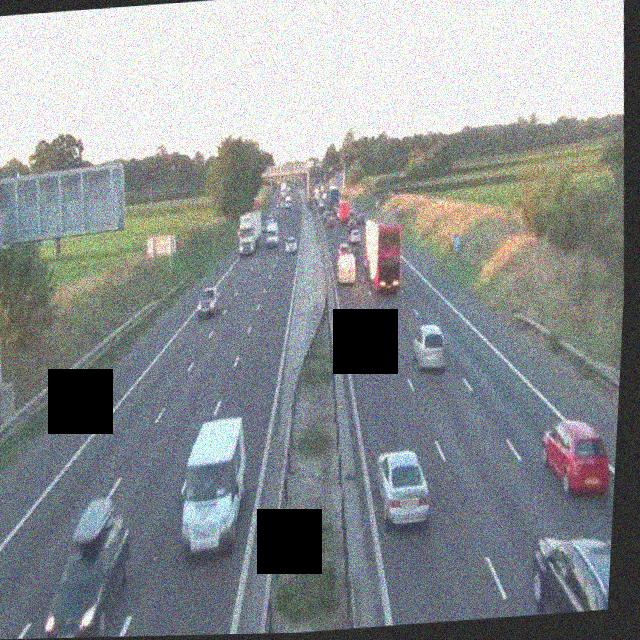car: (37, 494, 138, 638), (174, 416, 253, 559), (529, 529, 612, 615), (540, 416, 614, 499), (374, 449, 434, 529), (410, 323, 448, 372), (349, 312, 379, 352), (197, 285, 221, 318), (349, 226, 363, 245), (284, 236, 298, 253), (326, 215, 336, 227), (283, 199, 293, 209)
truck: (362, 216, 406, 296), (236, 211, 263, 255), (335, 248, 359, 285), (337, 198, 353, 223), (321, 183, 333, 206), (278, 184, 290, 205), (316, 188, 327, 209)
